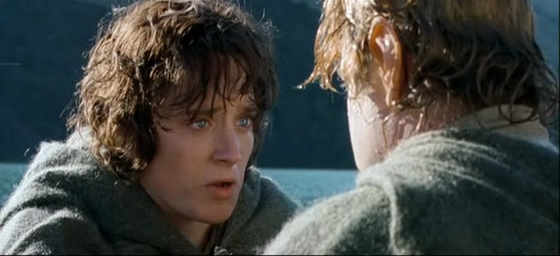cu: (1, 1, 560, 256)
face: (165, 71, 258, 224)
ots: (252, 1, 560, 256)
person: (1, 1, 302, 256)
